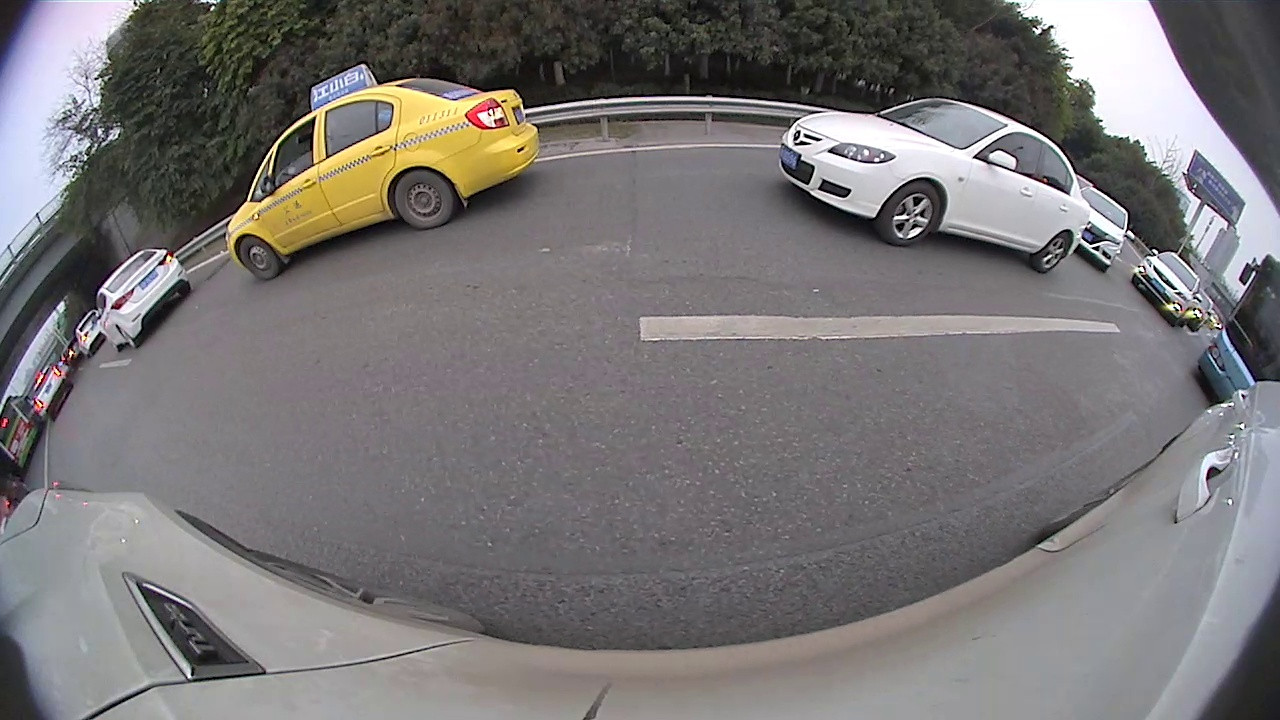car: (221, 63, 542, 285), (774, 97, 1093, 274), (1194, 248, 1279, 393), (93, 247, 196, 354), (1131, 247, 1206, 331), (1078, 179, 1133, 267), (19, 358, 79, 425)
front: (877, 181, 943, 248), (236, 235, 286, 283)
rear: (393, 171, 457, 231), (1031, 230, 1072, 276), (115, 325, 139, 352)
